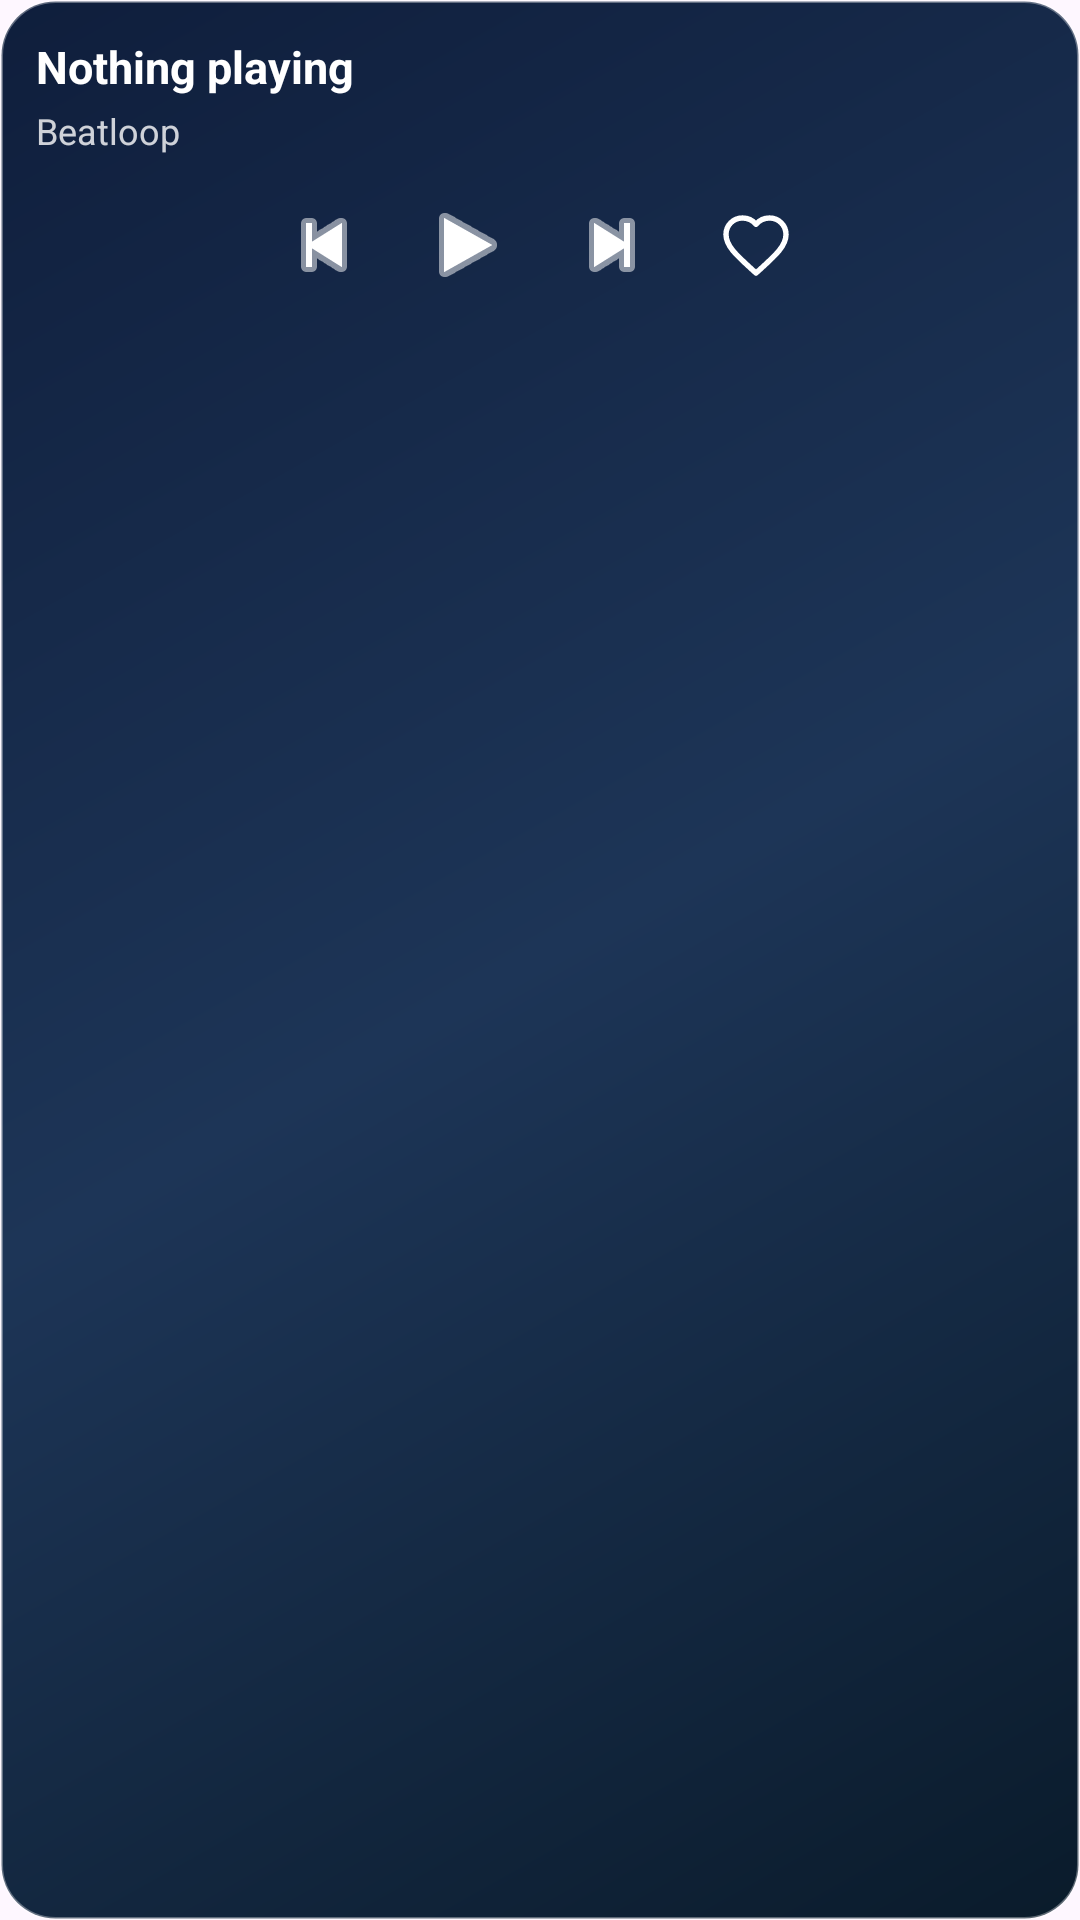

Where to tap for icons on this 1080 × 1920 app screen, as point (x, y):
Like: point (756, 245)
Next: point (612, 245)
Play pause: point (468, 245)
Previous: point (324, 245)
